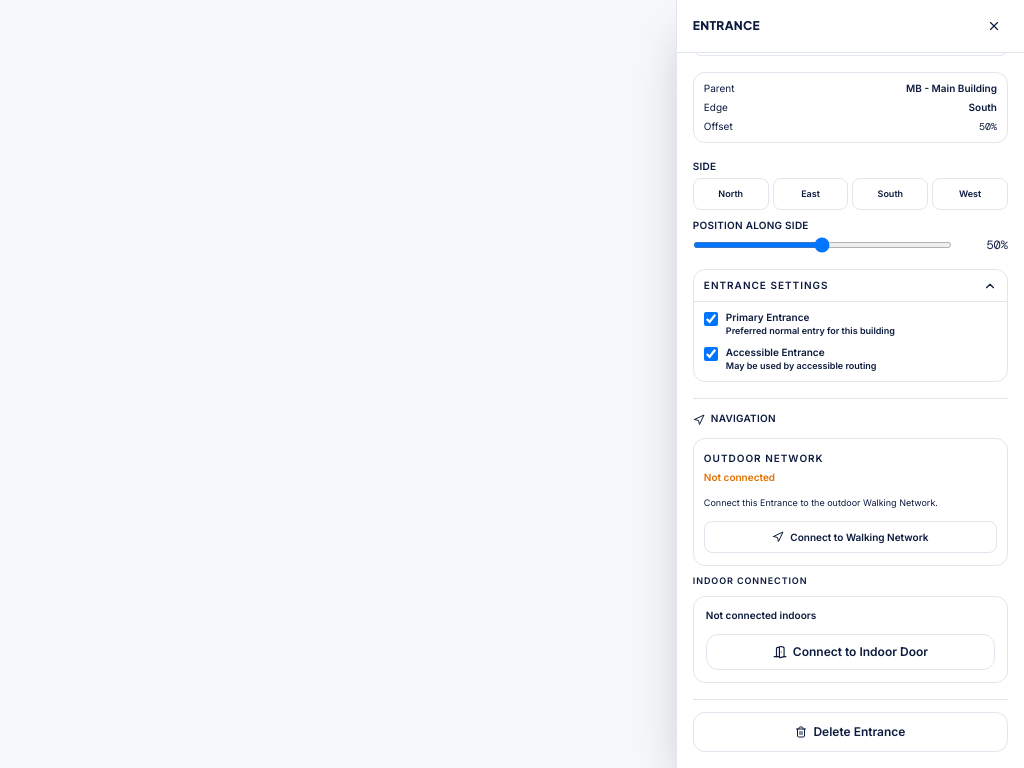
Test: B5 Phase 4.1 - entrance linking PropertiesPanel UI › renders a safe empty picker state when the building has no Doors
(page scrolled)
Click the button "Connect to Indoor Door" at (850, 652), box [706,634,995,670]
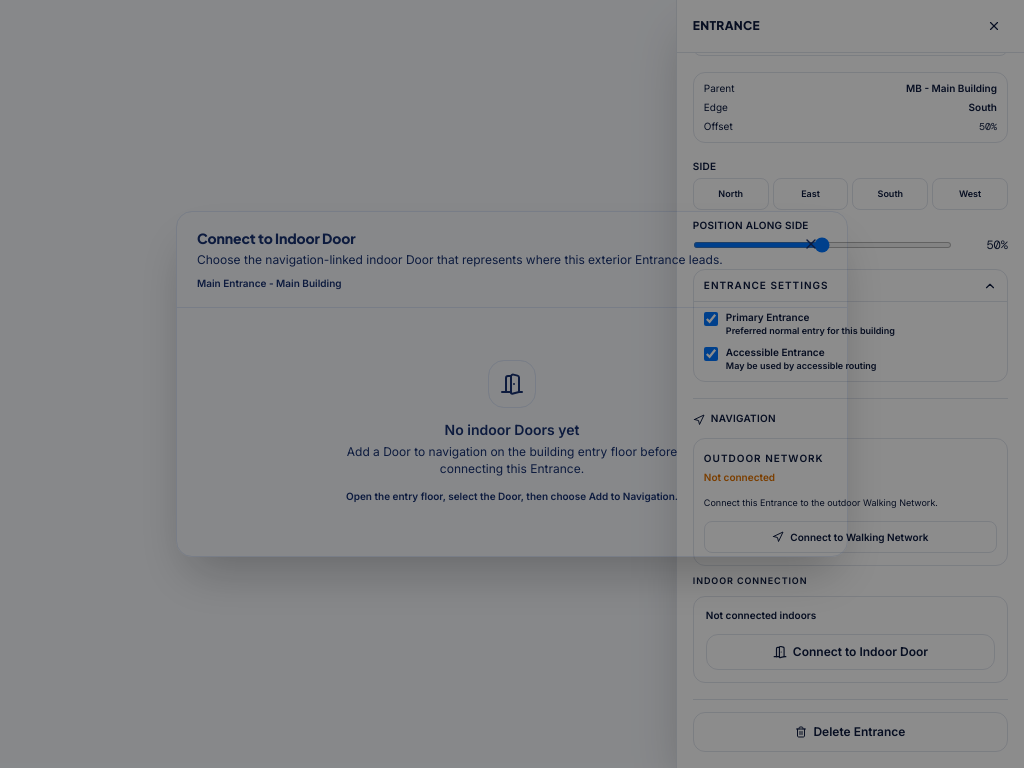
Expected: the element with test id "entrance-door-picker" is shown
Expected: the text "No indoor Doors yet" is shown, [444,421,579,438]
Expected: the text "Add a Door to navigation on the building entry floor before connecting this Entrance." is shown, [347,444,677,476]
